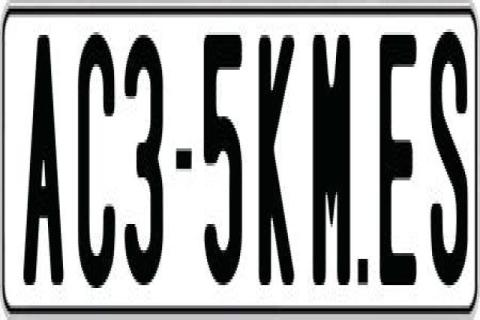0: (122, 29, 166, 285), (202, 26, 242, 294)
A: (23, 32, 69, 300)
C: (75, 27, 115, 286)
E: (380, 29, 417, 279)
K: (260, 26, 300, 282)
M: (310, 32, 348, 296)
S: (428, 27, 464, 286)
